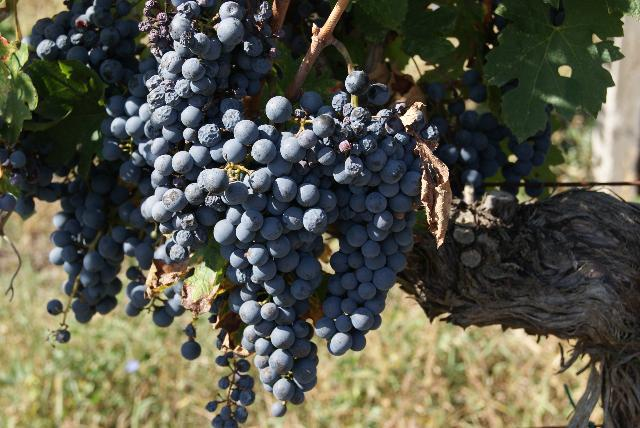grapes: (215, 121, 336, 411), (312, 104, 421, 355)
